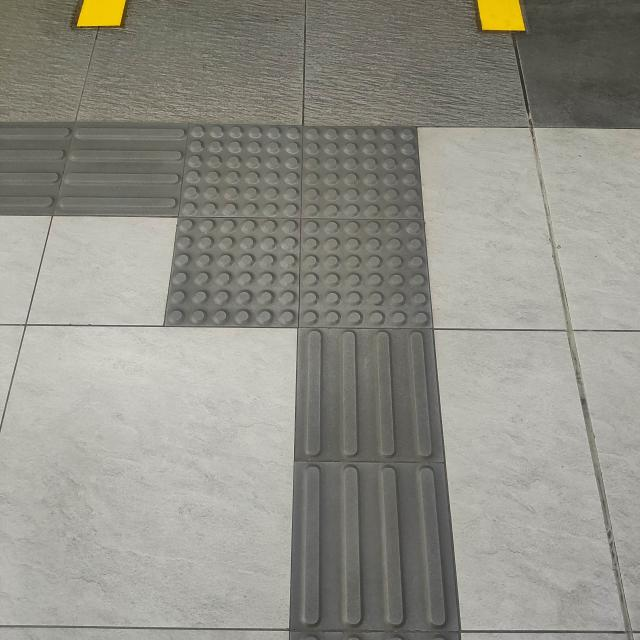kiri: (0, 72, 511, 444)
